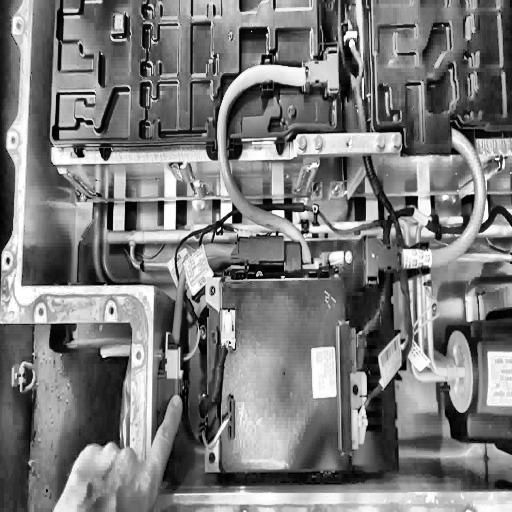high_volt_cable: (167, 49, 337, 355), (363, 105, 490, 290)
low_volt_cable: (345, 32, 418, 444)
nut: (296, 134, 308, 153), (312, 134, 324, 153), (375, 133, 387, 150), (393, 132, 403, 149)
